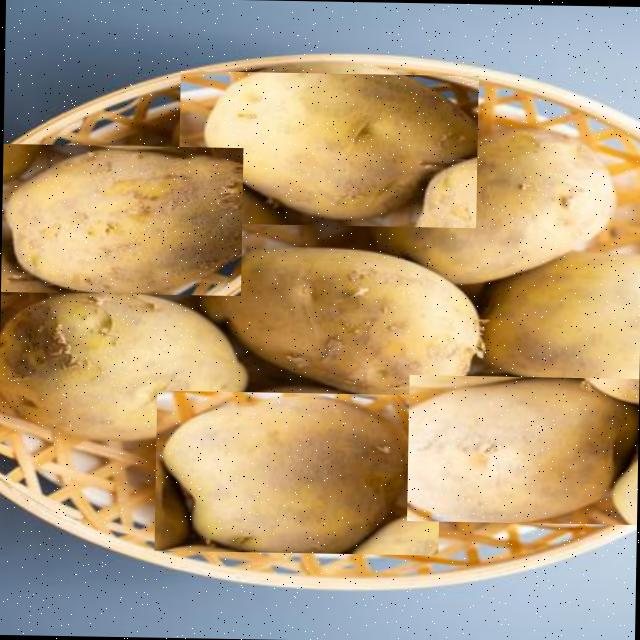Potato: (205, 240, 503, 405), (154, 389, 441, 554), (177, 70, 478, 226), (0, 272, 253, 443), (0, 143, 243, 294), (406, 374, 640, 524), (391, 112, 618, 266), (473, 237, 640, 398)
